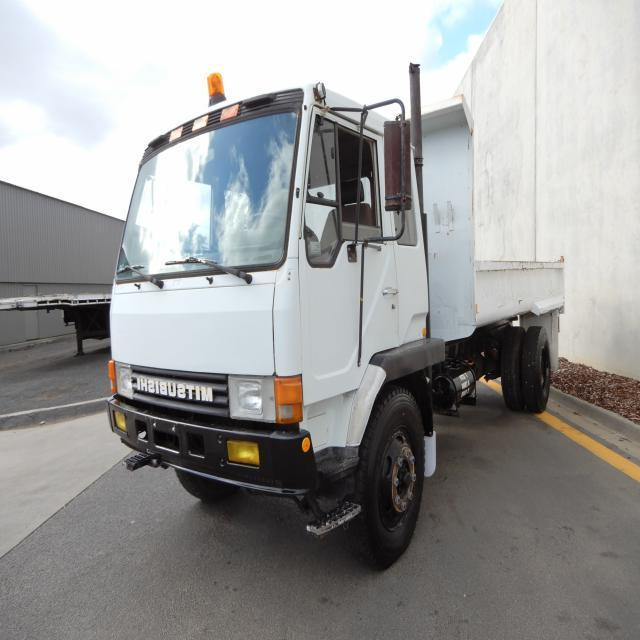truck: (106, 74, 564, 564)
